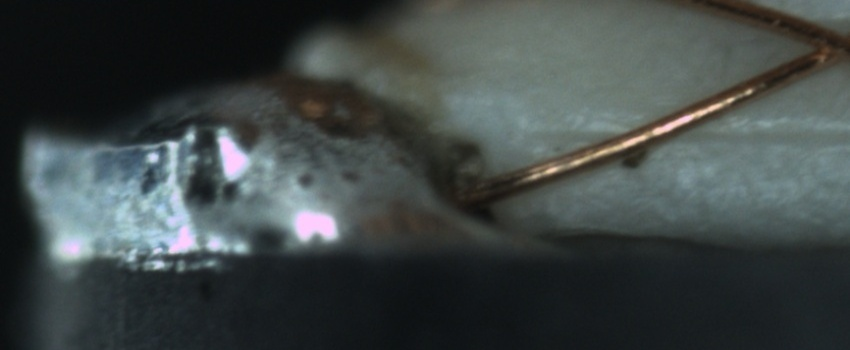CL: (780, 13, 847, 76)
DL: (548, 106, 850, 168)
